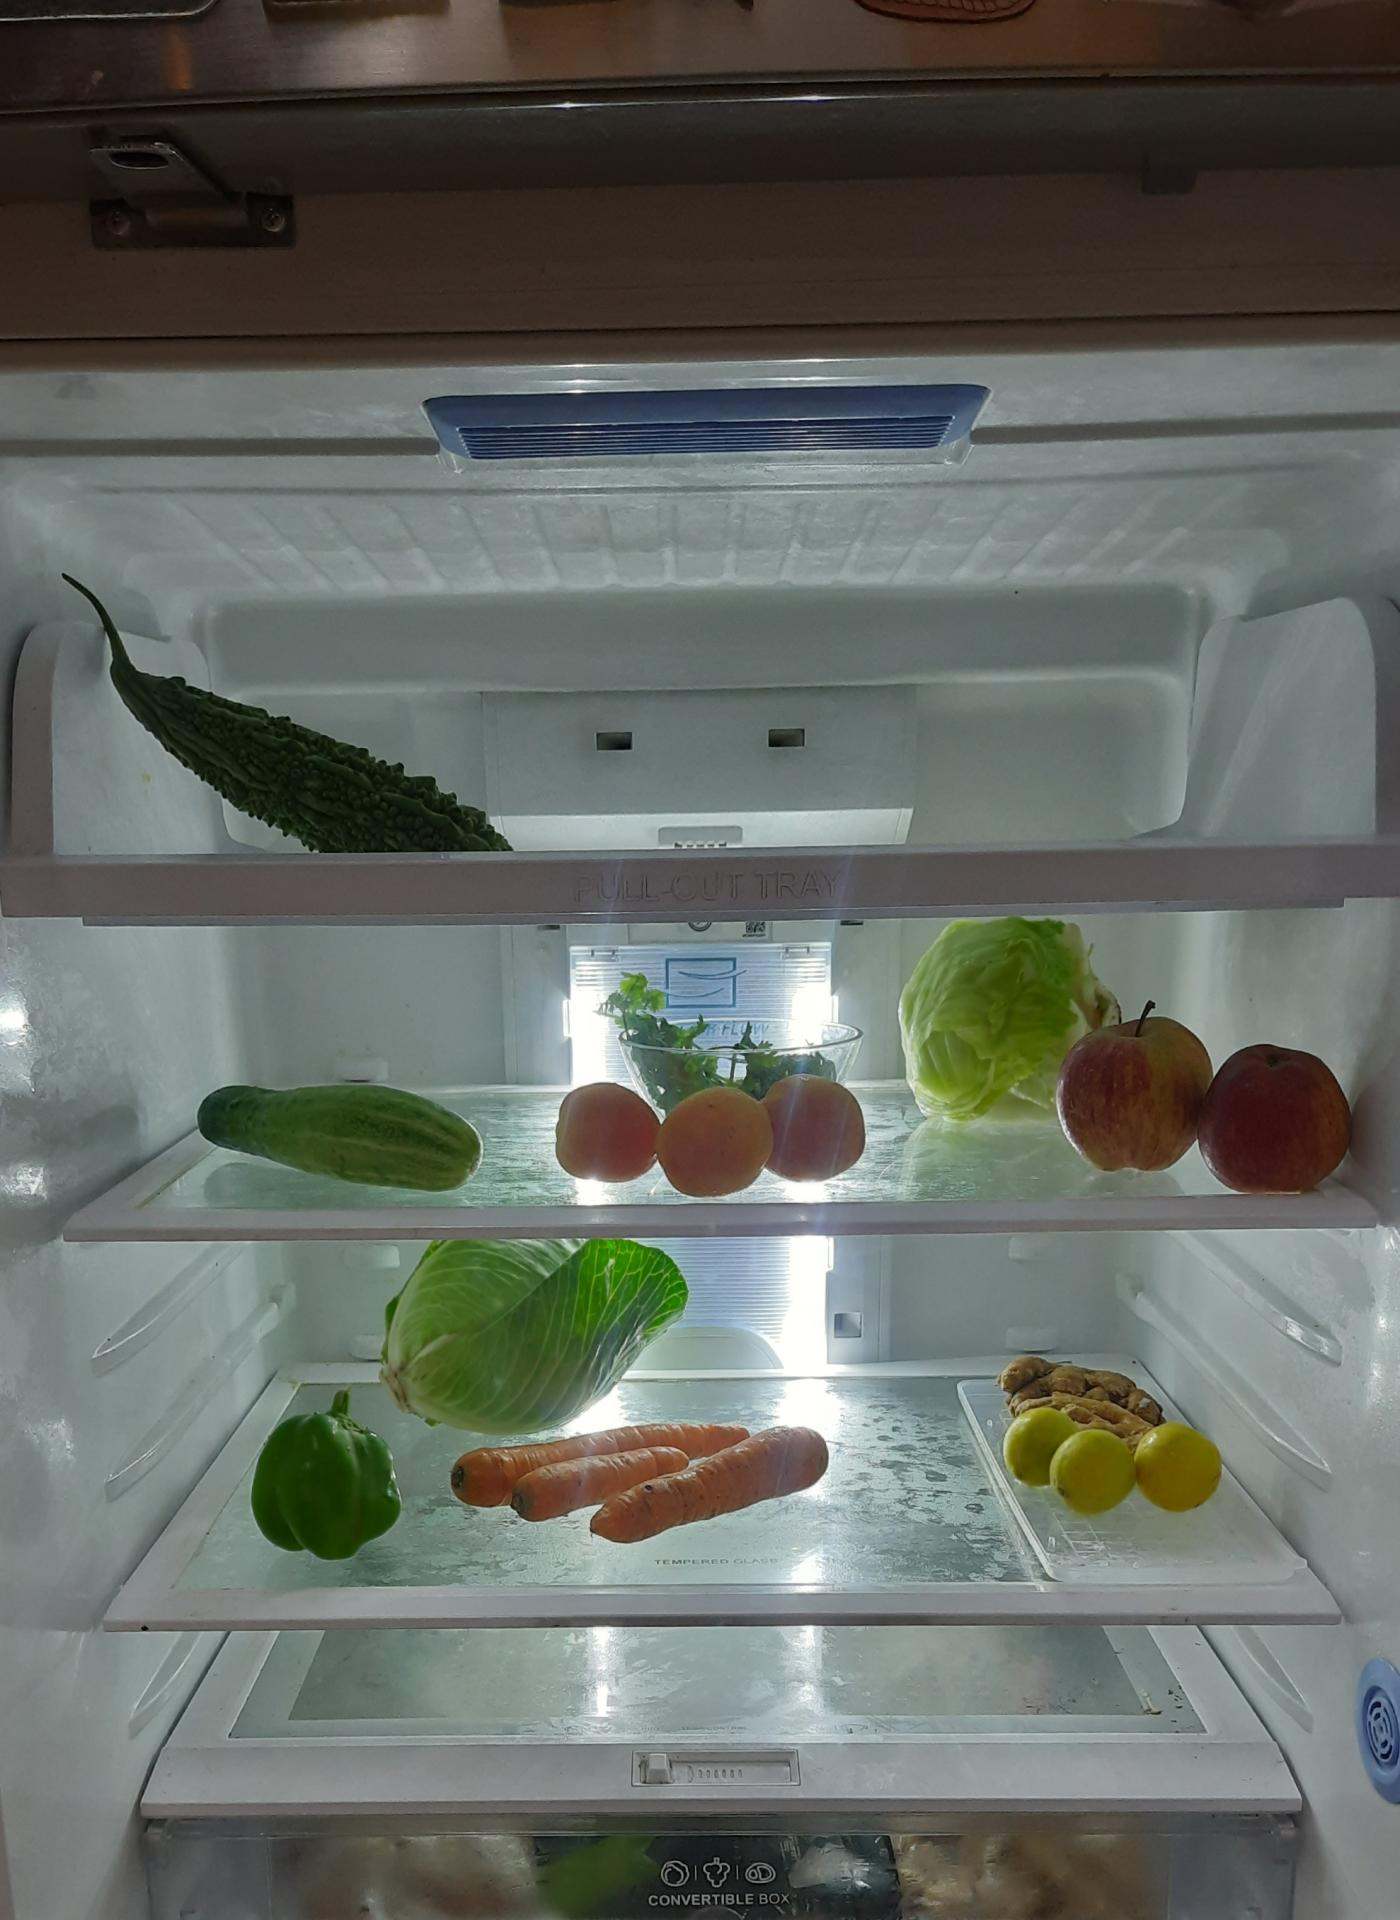apple: (1090, 1008, 1357, 1185)
bitter gourd: (86, 590, 523, 856)
cabbage: (376, 1248, 680, 1430)
capsicum: (249, 1392, 407, 1564)
carrots: (443, 1406, 839, 1538)
coriander: (605, 981, 835, 1091)
cucumber: (192, 1072, 496, 1187)
lemon: (1005, 1403, 1226, 1523)
lettuce: (899, 924, 1106, 1124), (1002, 1364, 1170, 1410)
tomato: (659, 1070, 877, 1185), (555, 1073, 668, 1178)
